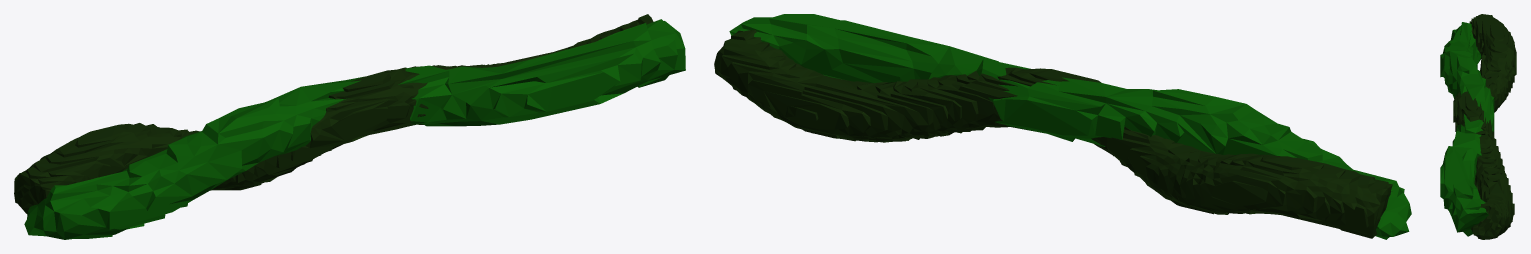
The model's file is Platform.fbx.
3 views of the same model, side by side, from view 1: azimuth 30°, elevation 25°; view 2: azimuth 150°, elevation 25°; view 3: azimuth 270°, elevation 25° (orthographic). The views are drawn at different scales.
Visible parts, largest first — view 1: BezierCurve, BezierCurve.001; view 2: BezierCurve.001, BezierCurve; view 3: BezierCurve.001, BezierCurve.
Boxes of the visible parts, x1,y1,x2,y2 form: BezierCurve: (24, 19, 685, 239); BezierCurve.001: (14, 14, 653, 214); BezierCurve.001: (714, 29, 1392, 238); BezierCurve: (729, 14, 1411, 239); BezierCurve.001: (1453, 14, 1516, 239); BezierCurve: (1440, 22, 1494, 236).
Bounding box in the file's own units: 6.26 × 0.8884 × 1.
